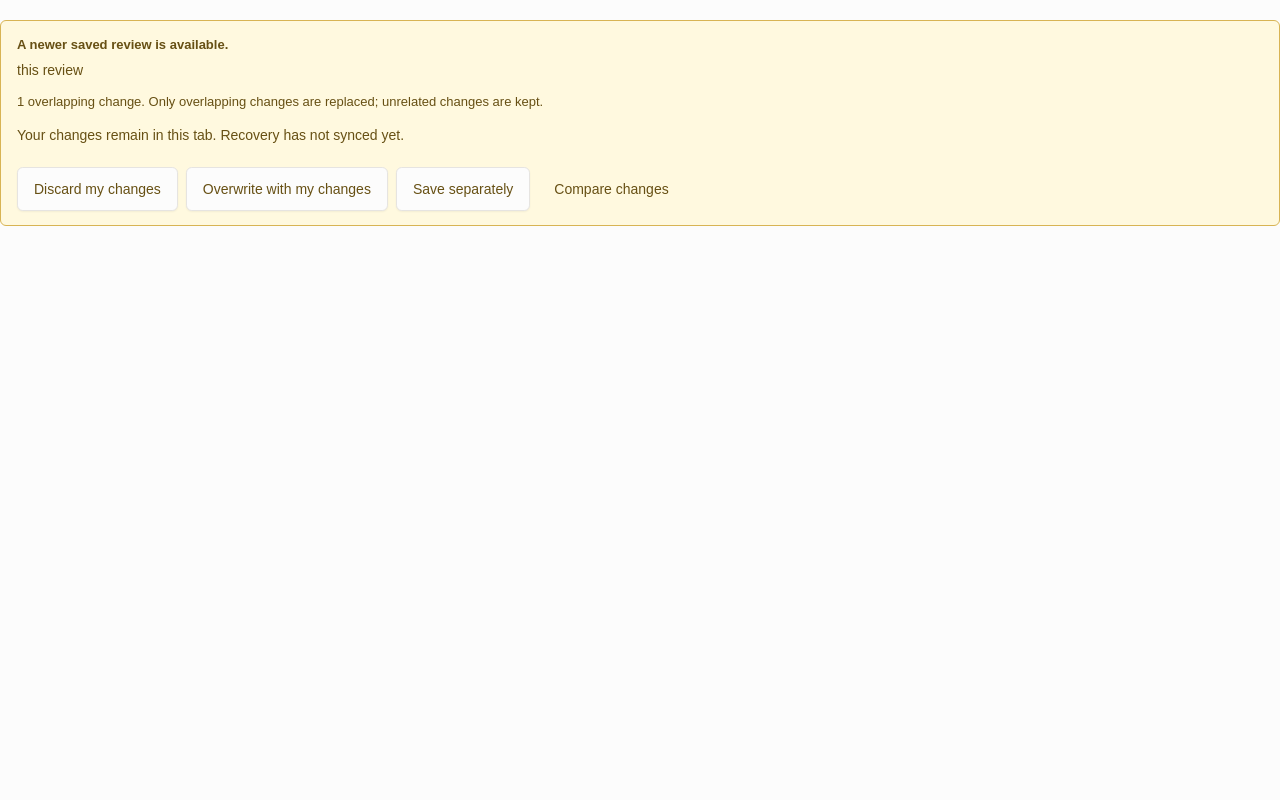
metadata comparison preserves authored values for frontmatter.decision
The width and height of the screenshot is (1280, 800).
Click the button "Compare changes".
click(612, 189)  # box left=538, top=167, right=685, bottom=211
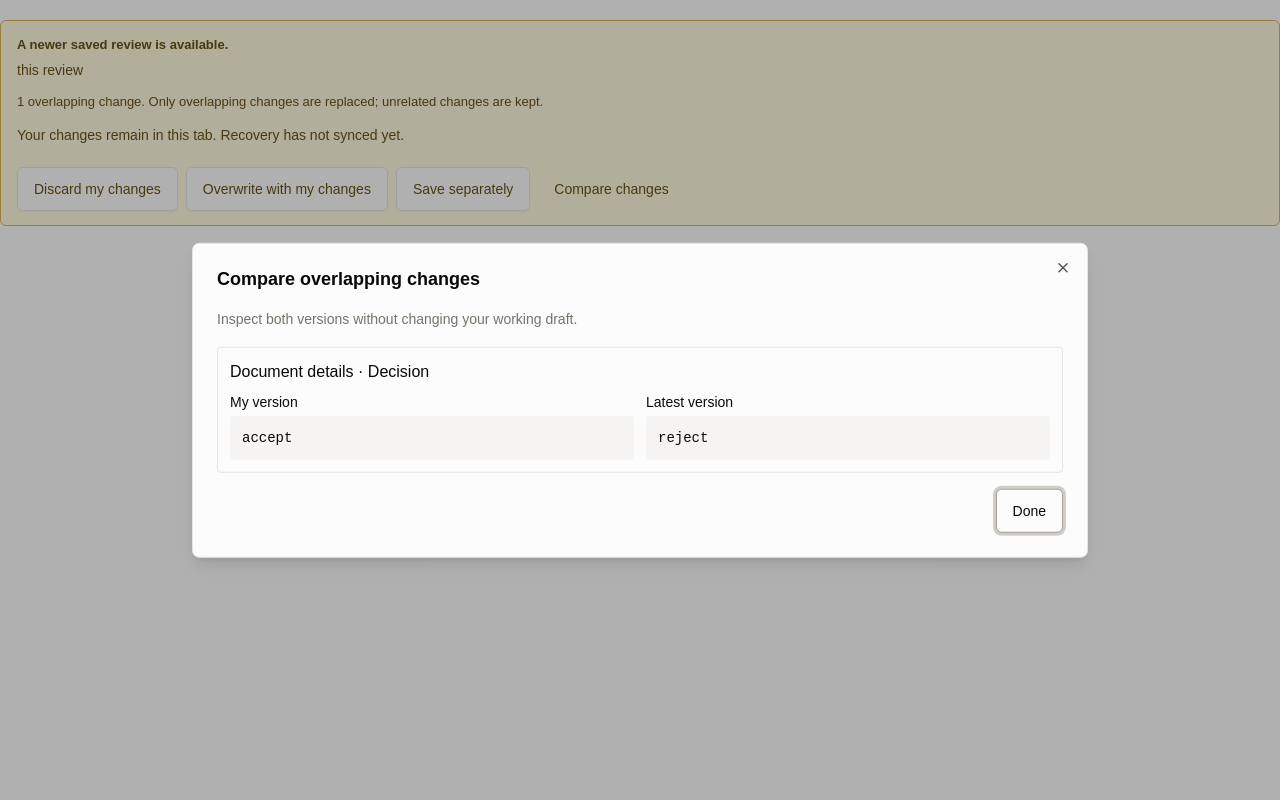
Check: the text "Document details · Decision" is shown, box left=230, top=362, right=429, bottom=379
